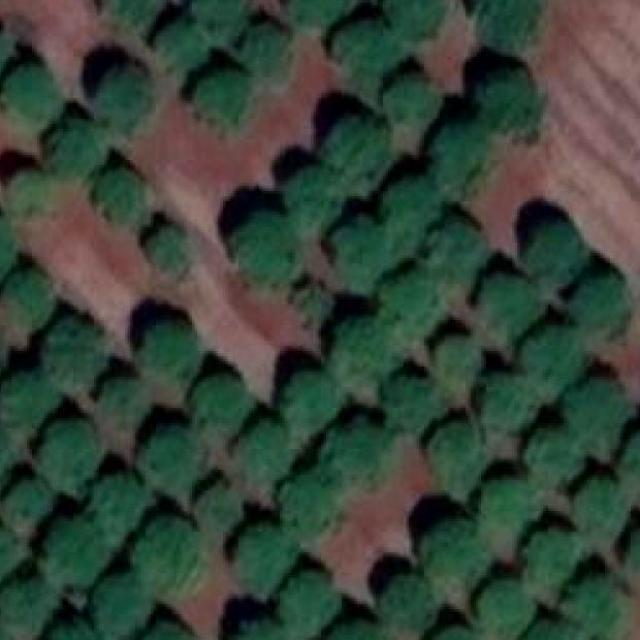Tree: (331, 26, 407, 103), (138, 519, 208, 595), (564, 379, 630, 459), (321, 119, 391, 194), (319, 424, 391, 494), (233, 215, 296, 290), (142, 428, 202, 506), (334, 217, 396, 289), (422, 522, 489, 588), (522, 330, 584, 400), (381, 274, 443, 340), (236, 526, 296, 594), (39, 416, 99, 483), (476, 278, 543, 338), (280, 573, 340, 640), (433, 423, 484, 501), (332, 323, 396, 385), (282, 170, 342, 236), (383, 180, 440, 248), (481, 72, 538, 140), (46, 521, 110, 581), (140, 323, 198, 388), (1, 67, 61, 129), (440, 127, 491, 199), (46, 318, 102, 383), (285, 372, 345, 432), (192, 376, 252, 436), (566, 581, 626, 640), (92, 478, 146, 543), (239, 421, 293, 483), (53, 120, 107, 180), (97, 70, 149, 132), (475, 0, 540, 49), (526, 225, 580, 282), (280, 477, 331, 537), (430, 230, 484, 285), (481, 375, 536, 429), (97, 576, 149, 633), (479, 583, 531, 640), (1, 372, 58, 423), (479, 480, 536, 530), (0, 581, 54, 633), (195, 72, 250, 122), (383, 77, 435, 129), (574, 277, 623, 331), (528, 532, 579, 583), (385, 578, 435, 630), (574, 483, 629, 530), (3, 274, 53, 325), (390, 380, 440, 431), (528, 432, 577, 483), (4, 480, 51, 532), (102, 377, 147, 431), (241, 26, 286, 80), (97, 170, 141, 225), (385, 0, 442, 38), (158, 26, 207, 70), (197, 485, 239, 535), (195, 0, 246, 41), (9, 170, 54, 215), (435, 339, 479, 385), (292, 0, 361, 28), (0, 523, 24, 599), (148, 230, 186, 277), (102, 0, 159, 31), (230, 621, 297, 640), (323, 621, 390, 640), (138, 621, 200, 640), (519, 621, 576, 640), (298, 284, 324, 323), (0, 425, 13, 494), (0, 211, 13, 278), (625, 433, 640, 490), (52, 624, 104, 640), (434, 629, 475, 640), (627, 533, 640, 567), (0, 30, 9, 77), (0, 330, 6, 387), (0, 621, 8, 639)
